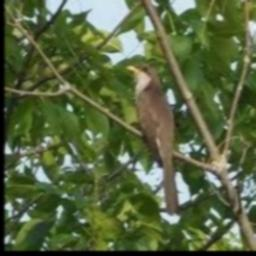Cuckoo: (125, 63, 180, 214)
